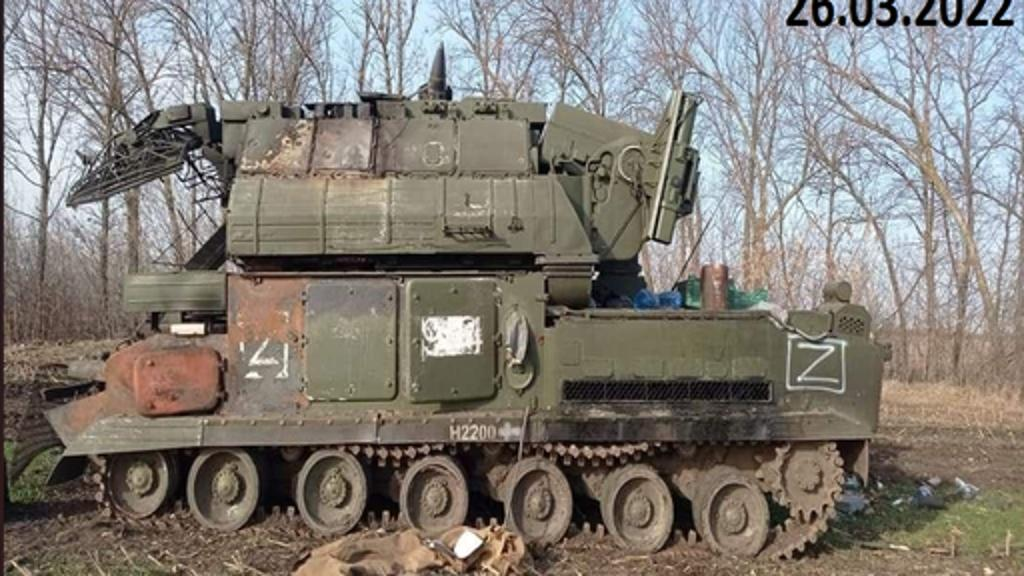MLRS: (26, 74, 890, 562)
